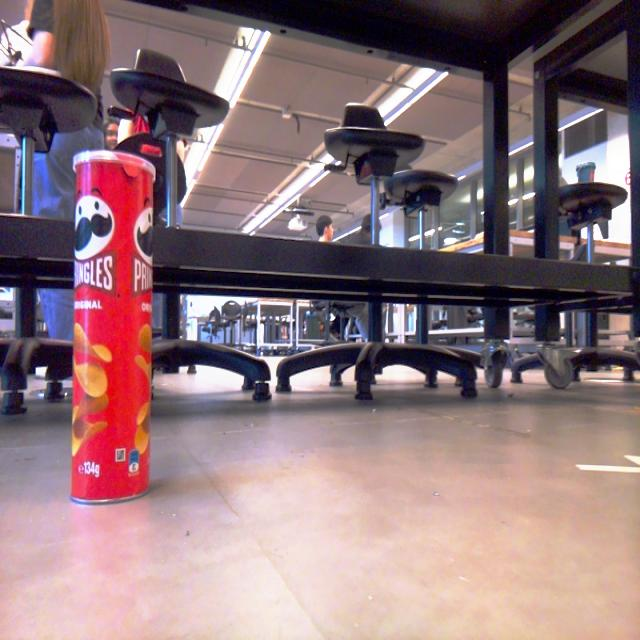redpringles: (65, 141, 181, 515)
